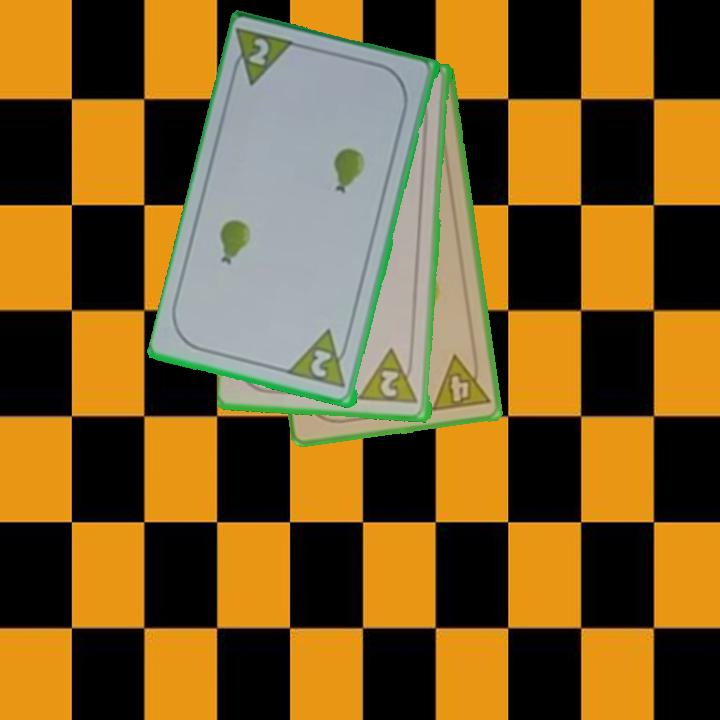2p: (227, 25, 301, 90), (358, 346, 421, 407), (307, 346, 336, 381)
4p: (428, 349, 493, 414)
